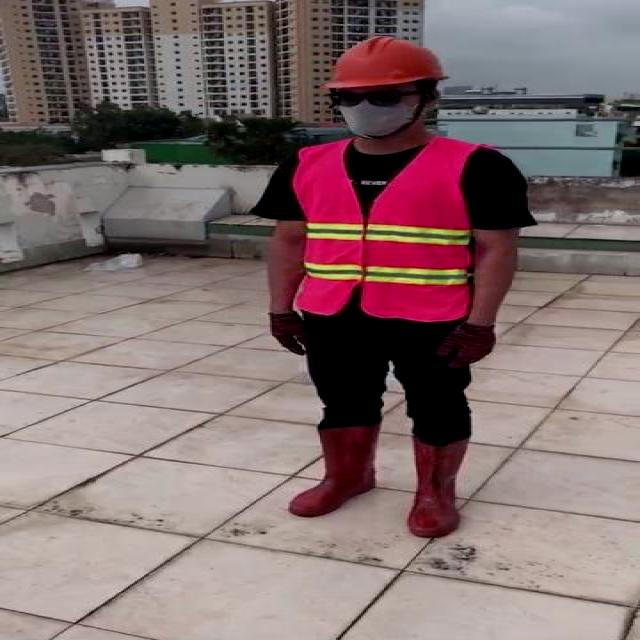boots: (290, 425, 378, 517), (407, 435, 466, 538)
face_mask: (328, 84, 419, 138)
glasses: (323, 84, 409, 110)
hand_glove: (436, 325, 498, 367), (267, 313, 309, 356)
head_helmet: (318, 32, 452, 92)
person: (250, 32, 536, 550)
vest: (297, 141, 473, 323)
